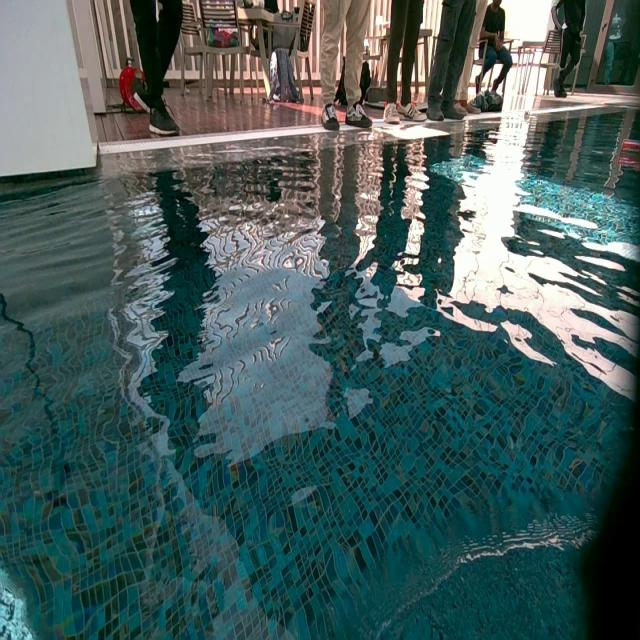Cans: (620, 138, 640, 155)
